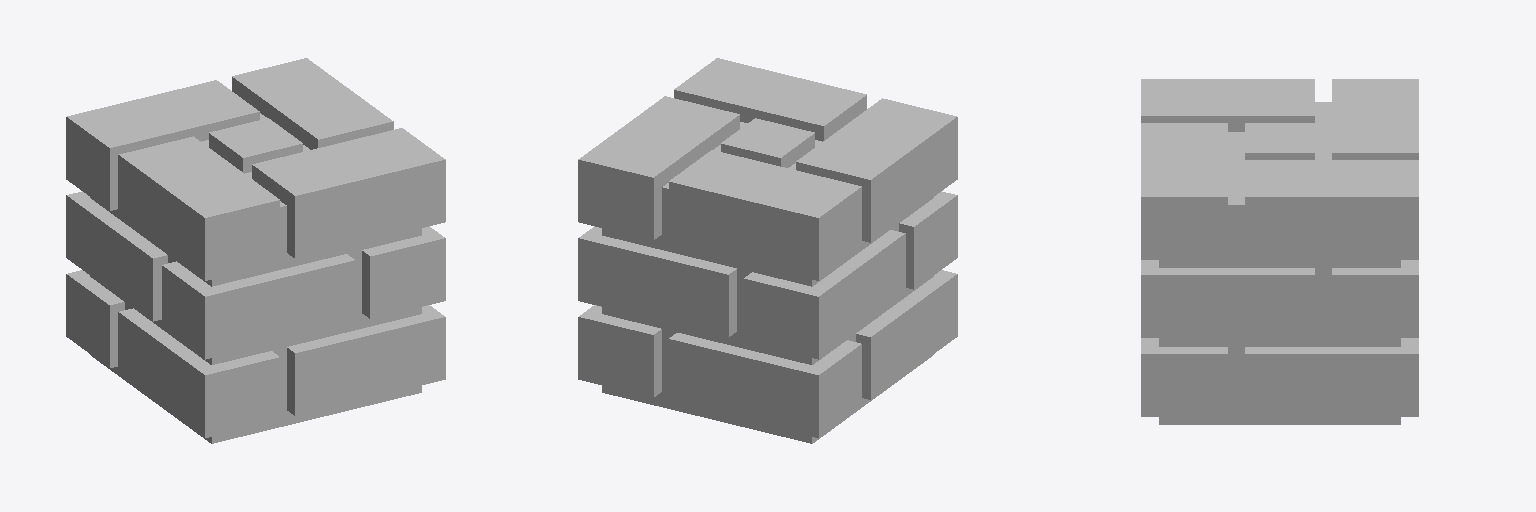
Rendered from wall.obj.
The picture shows the model from 3 angles: view 1: azimuth 30°, elevation 25°; view 2: azimuth 150°, elevation 25°; view 3: azimuth 270°, elevation 25°; orthographic projection.
Size of the model in its own units: 16 by 15 by 16.